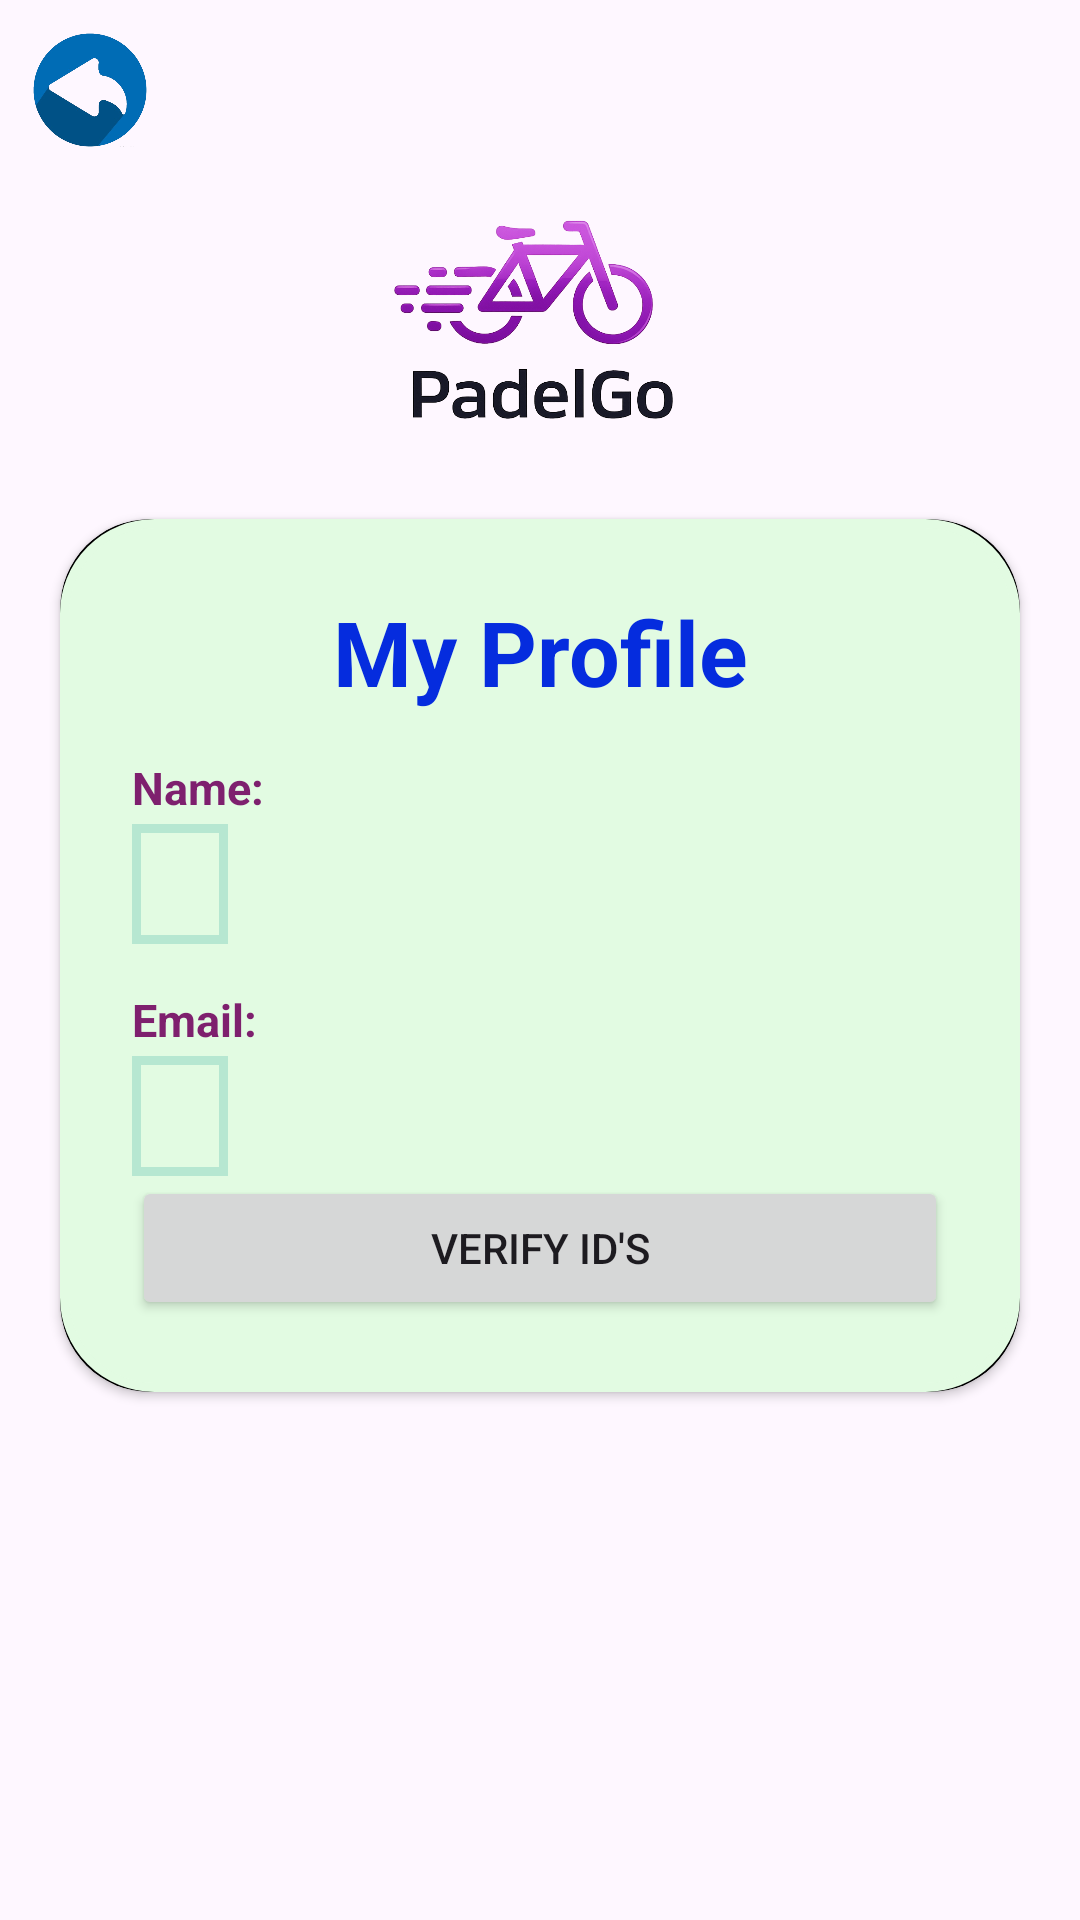

Locate icon controls on the screen. Image size 1080px x 1920px, boxes as (x1, y1, x2, y2).
backbutton: (33, 33, 147, 147)
